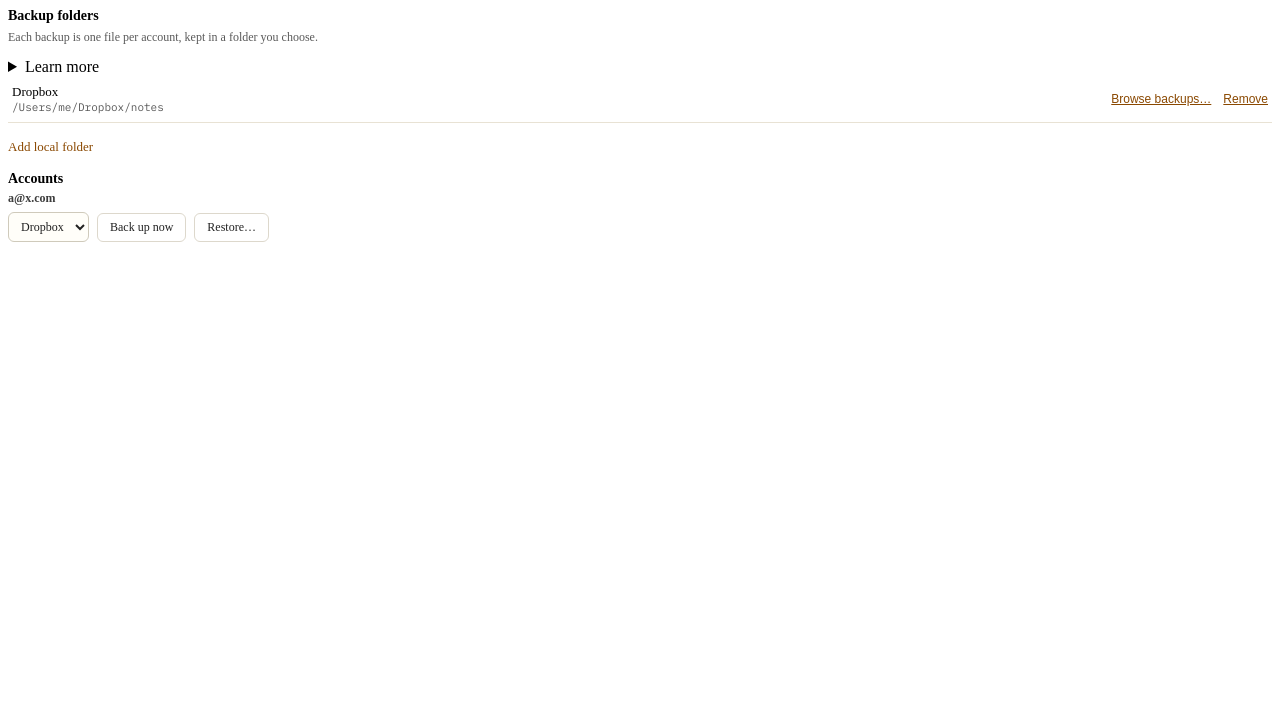
BackupPage › add folder shows the encryption disclosure and cancels cleanly
The image size is (1280, 720).
Click the button "Add local folder": [51, 147] box x1=8 y1=135 x2=93 y2=159
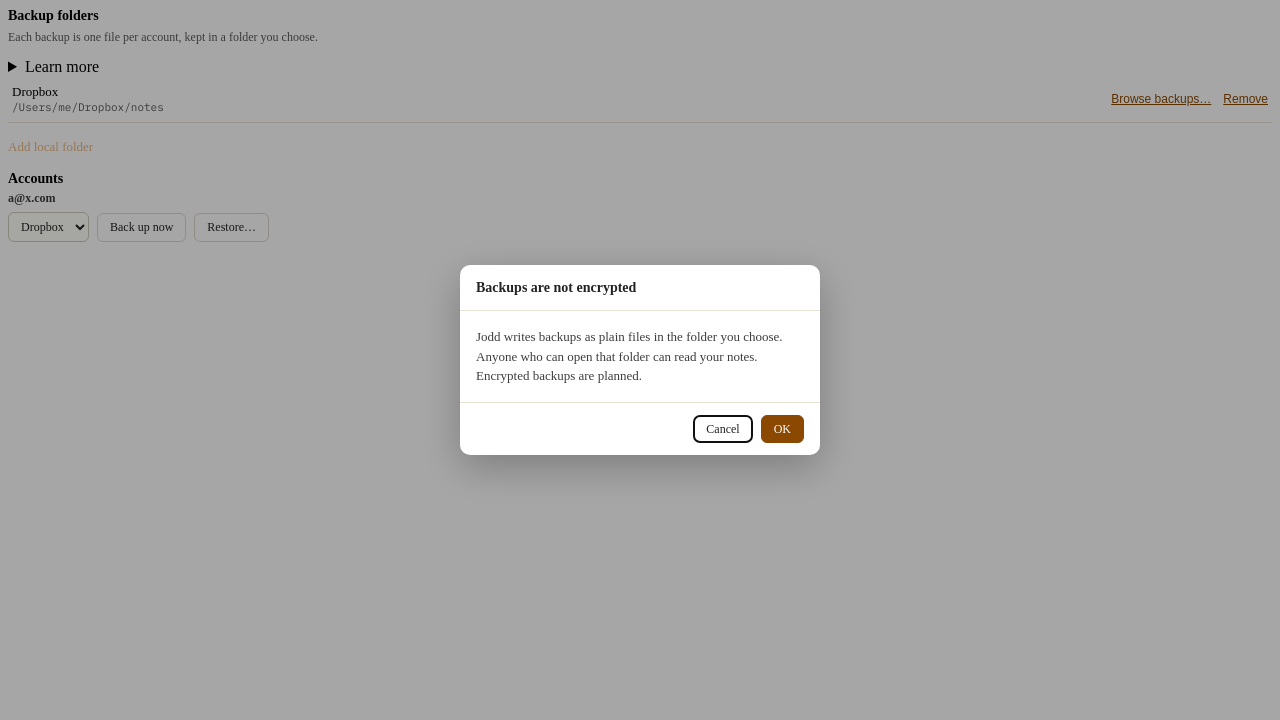
Expected: the text "Backups are not encrypted" is shown, x1=476 y1=280 x2=636 y2=295
Expected: the text "Jodd writes backups as plain files in the folder you choose. Anyone who can open that folder can read your notes. Encrypted backups are planned." is shown, x1=476 y1=329 x2=782 y2=383
Click the button "Cancel": [723, 429] box x1=693 y1=415 x2=753 y2=443
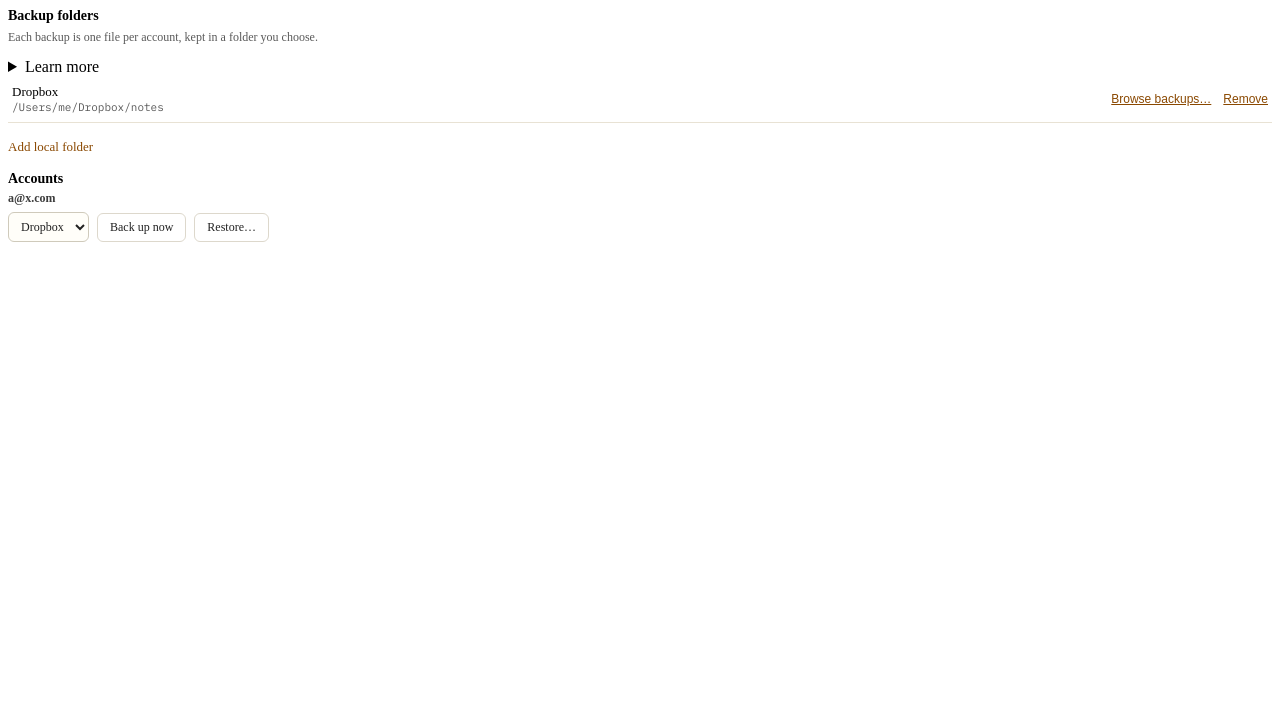
Expected: the text "Backups are not encrypted" is gone
